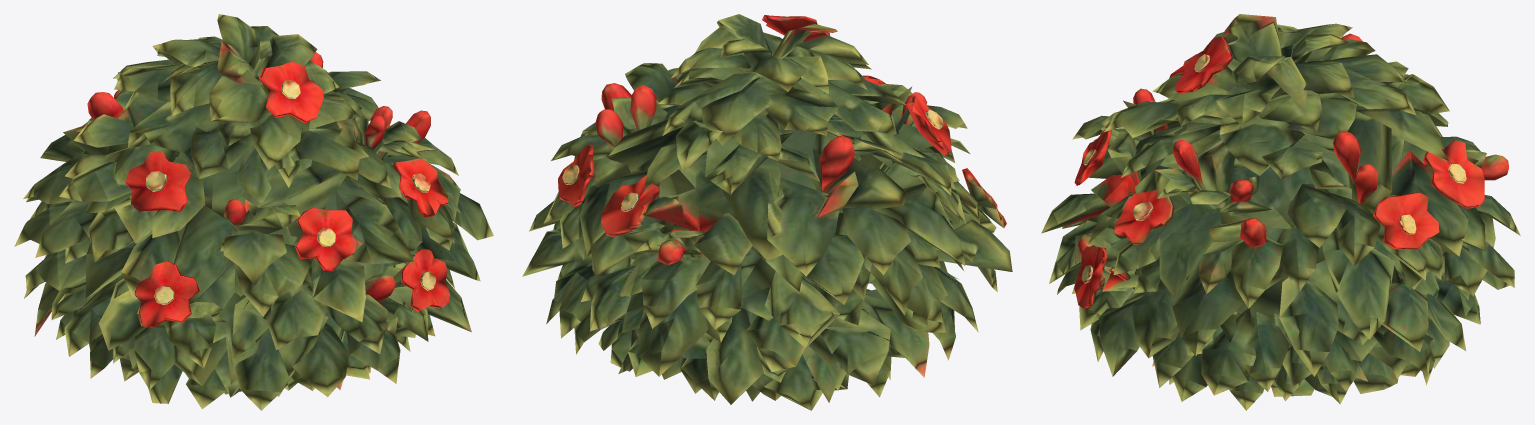
Rendered from red_flower_bush.glb.
3 views of the same model, side by side, from view 1: azimuth 30°, elevation 25°; view 2: azimuth 150°, elevation 25°; view 3: azimuth 270°, elevation 25° (orthographic). The views are drawn at different scales.
Visible parts, largest first — view 1: red_flower_bush; view 2: red_flower_bush; view 3: red_flower_bush.
Boxes of the visible parts, bbox=[...] form: red_flower_bush: bbox=[14, 14, 493, 410]; red_flower_bush: bbox=[522, 14, 1012, 410]; red_flower_bush: bbox=[1041, 14, 1520, 410].
Bounding box in the file's own units: 0.8735 × 0.65 × 0.8785.
Materials: 1 (1 with a texture image).
